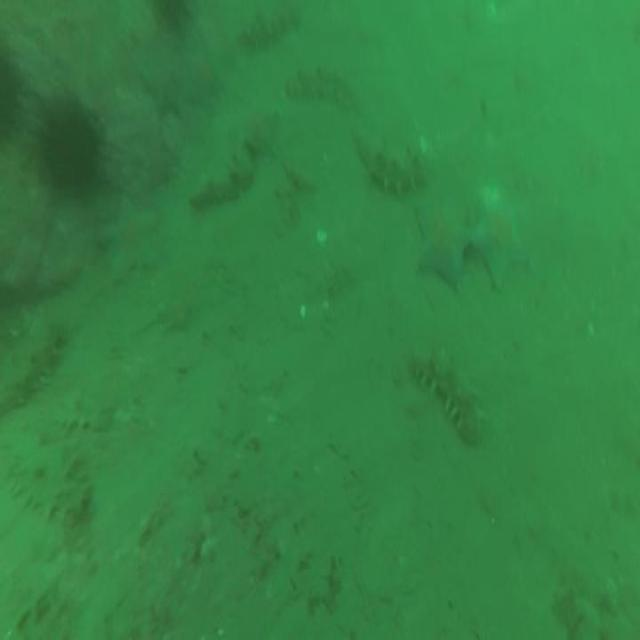echinus: (35, 100, 96, 192)
holothurian: (408, 344, 486, 446), (352, 125, 433, 196), (2, 318, 58, 412), (13, 464, 90, 516), (285, 58, 353, 110), (190, 156, 254, 208), (242, 0, 300, 46)
starfish: (416, 190, 470, 294), (475, 198, 528, 296), (102, 197, 158, 283)
